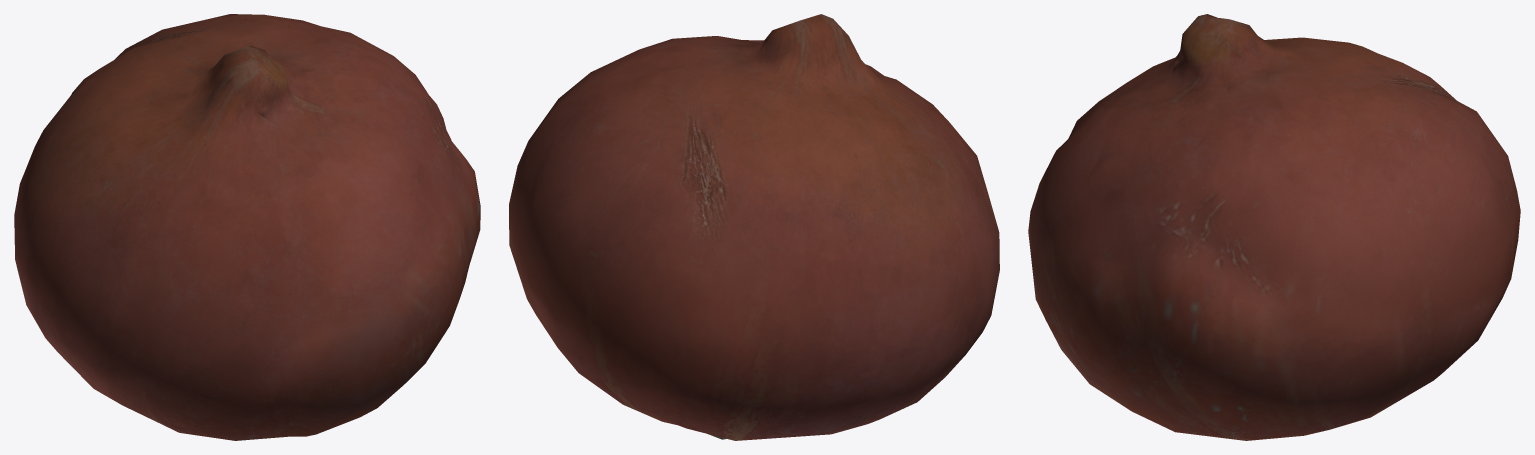
File: SM_Pumpkin.fbx
The picture shows the model from 3 angles, left to right: view 1: azimuth 30°, elevation 25°; view 2: azimuth 150°, elevation 25°; view 3: azimuth 270°, elevation 25°; orthographic projection. The views are drawn at different scales.
Visible parts, largest first — view 1: SM_Pumpkin_LOD0; view 2: SM_Pumpkin_LOD0; view 3: SM_Pumpkin_LOD0.
Boxes of the visible parts, left/top/right/bottom form: SM_Pumpkin_LOD0: left=14, top=14, right=480, bottom=440; SM_Pumpkin_LOD0: left=509, top=14, right=999, bottom=440; SM_Pumpkin_LOD0: left=1028, top=14, right=1520, bottom=440.
Size of the model in its own units: 21.8 by 21.91 by 18.94.
